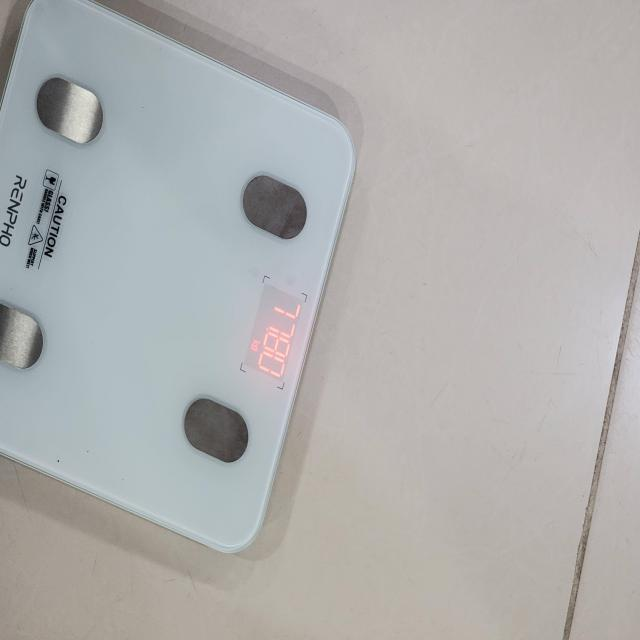ws: (0, 0, 362, 586)
